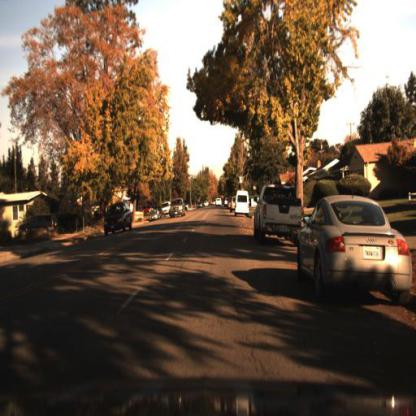car: (298, 197, 414, 309), (254, 177, 304, 253), (252, 184, 306, 246), (101, 199, 136, 239), (102, 200, 135, 237), (233, 184, 252, 219), (234, 191, 251, 217), (170, 195, 186, 219), (148, 209, 163, 225), (136, 205, 149, 219), (147, 209, 158, 225)
